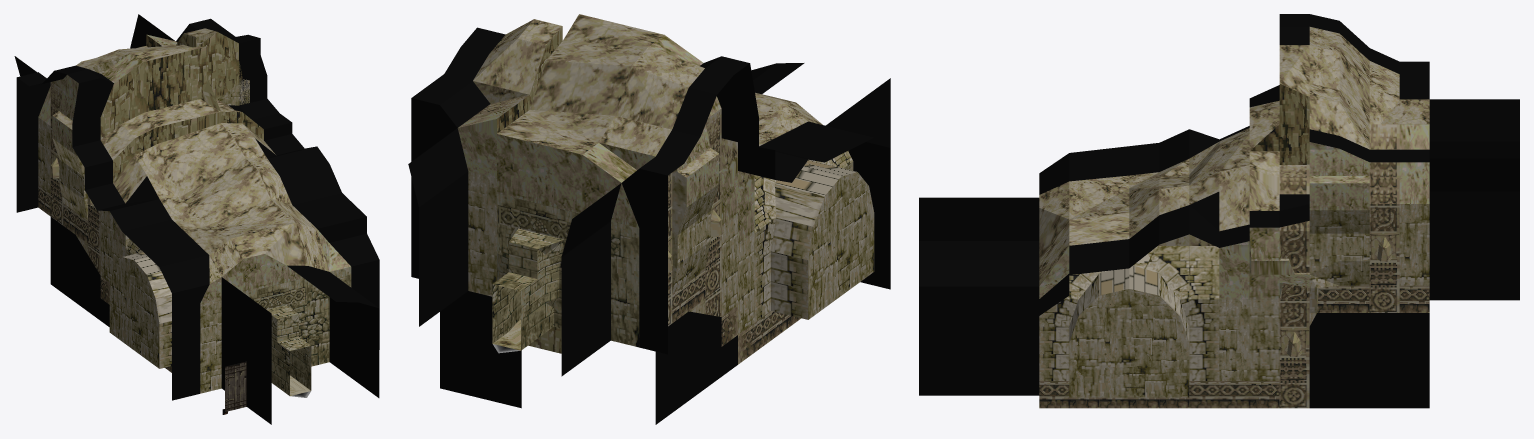
Rendered from MAP010.obj.
The picture shows the model from 3 angles, left to right: view 1: azimuth 30°, elevation 25°; view 2: azimuth 150°, elevation 25°; view 3: azimuth 270°, elevation 25°; orthographic projection. The views are drawn at different scales.
Parts seen in each view (by area): view 1: mesh_34, mesh_54, mesh_52, mesh_53, mesh_33, mesh_68, mesh_28, mesh_42, mesh_29, mesh_23, mesh_26, mesh_25 (+12 smaller); view 2: mesh_54, mesh_34, mesh_51, mesh_68, mesh_13, mesh_47, mesh_70, mesh_28, mesh_52, mesh_14, mesh_42, mesh_73 (+12 smaller); view 3: mesh_34, mesh_53, mesh_51, mesh_59, mesh_18, mesh_52, mesh_22, mesh_42, mesh_54, mesh_20, mesh_60, mesh_19 (+8 smaller).
Part boxes in pixels (<box>): mesh_34: <box>76,45,329,276</box>; mesh_54: <box>16,65,209,400</box>; mesh_52: <box>176,18,379,349</box>; mesh_53: <box>221,265,379,424</box>; mesh_33: <box>100,32,263,182</box>; mesh_68: <box>52,138,159,368</box>; mesh_28: <box>38,82,171,372</box>; mesh_42: <box>63,226,109,326</box>; mesh_29: <box>38,117,129,282</box>; mesh_23: <box>200,254,303,303</box>; mesh_26: <box>200,298,221,393</box>; mesh_25: <box>308,266,351,366</box>; mesh_54: <box>621,56,890,354</box>; mesh_34: <box>497,14,822,156</box>; mesh_51: <box>408,128,621,376</box>; mesh_68: <box>672,172,874,319</box>; mesh_13: <box>457,119,638,227</box>; mesh_47: <box>440,291,672,424</box>; mesh_70: <box>771,160,856,319</box>; mesh_28: <box>668,108,800,364</box>; mesh_52: <box>411,27,505,278</box>; mesh_14: <box>492,223,565,350</box>; mesh_42: <box>469,291,737,412</box>; mesh_73: <box>473,19,562,115</box>; mesh_34: <box>1039,27,1429,285</box>; mesh_53: <box>919,197,1039,395</box>; mesh_51: <box>1429,99,1519,300</box>; mesh_59: <box>1069,210,1369,397</box>; mesh_18: <box>1129,162,1429,408</box>; mesh_52: <box>1039,129,1429,315</box>; mesh_22: <box>1039,246,1219,380</box>; mesh_42: <box>1309,313,1399,408</box>; mesh_54: <box>1039,14,1429,194</box>; mesh_20: <box>1219,204,1429,380</box>; mesh_60: <box>1249,149,1369,297</box>; mesh_19: <box>1219,142,1429,299</box>.
Bounding box in the file's own units: 123 × 142 × 256.
19 materials, 19 textured.
